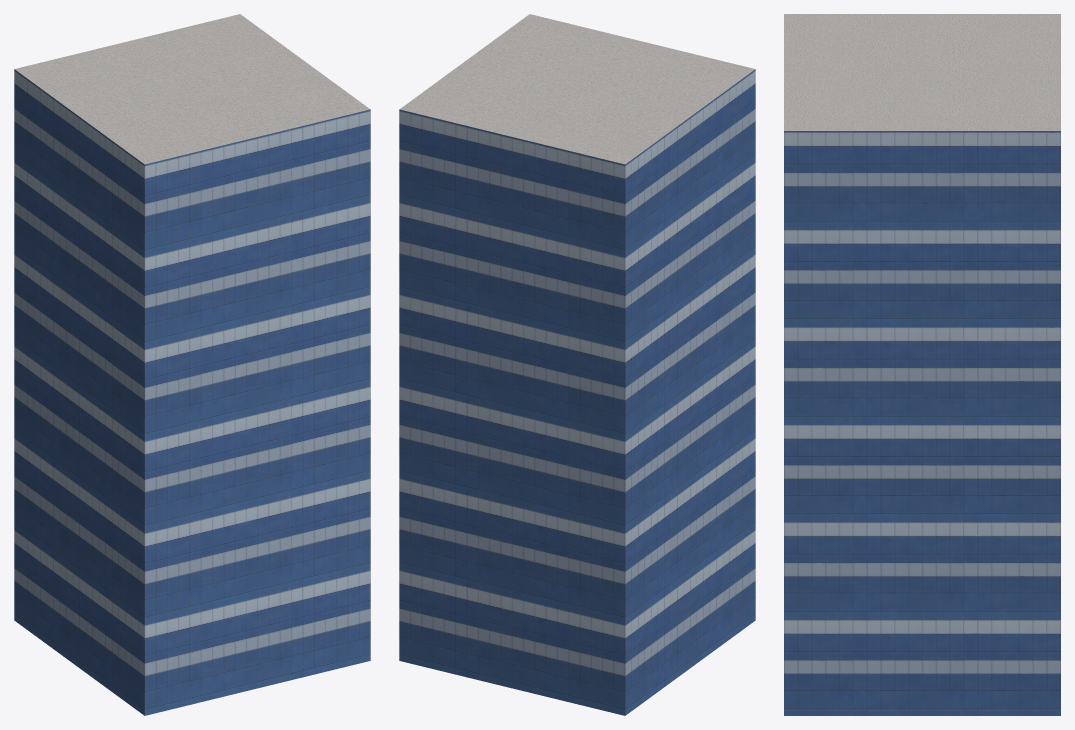
File: Building 1.fbx
The picture shows the model from 3 angles, left to right: view 1: azimuth 30°, elevation 25°; view 2: azimuth 150°, elevation 25°; view 3: azimuth 270°, elevation 25°; orthographic projection. The views are drawn at different scales.
Visible parts, largest first — view 1: Building 1; view 2: Building 1; view 3: Building 1.
Boxes of the visible parts, x1=… form: Building 1: x1=14, y1=14, x2=370, y2=715; Building 1: x1=399, y1=14, x2=755, y2=715; Building 1: x1=784, y1=14, x2=1060, y2=715.
Bounding box in the file's own units: 1500 × 3500 × 1500.
2 materials, 2 textured.
